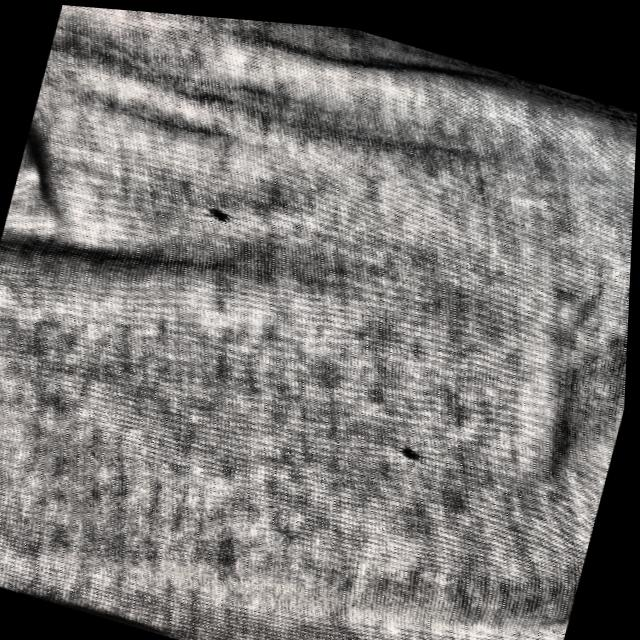Hole: (388, 429, 438, 461), (196, 196, 240, 225)
